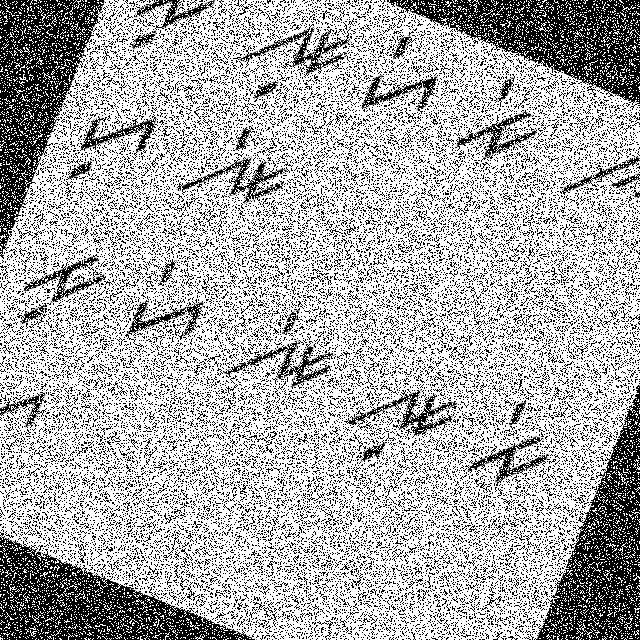he: (353, 22, 462, 145), (119, 248, 222, 362)
hu: (56, 84, 173, 209), (0, 351, 66, 485)
mbe: (458, 376, 572, 508), (440, 60, 556, 183)
mbu: (0, 224, 118, 353), (101, 0, 232, 78)
nde: (165, 99, 308, 245), (213, 282, 357, 424)
ndu: (318, 342, 472, 498), (212, 0, 362, 130)
